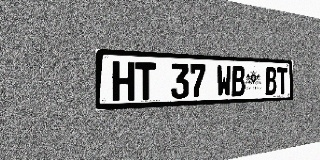3: (171, 63, 189, 99)
7: (189, 64, 206, 98)
B: (232, 65, 245, 97), (265, 67, 277, 95)
H: (112, 61, 135, 101)
T: (135, 62, 156, 100), (277, 67, 288, 95)
W: (217, 65, 231, 97)
